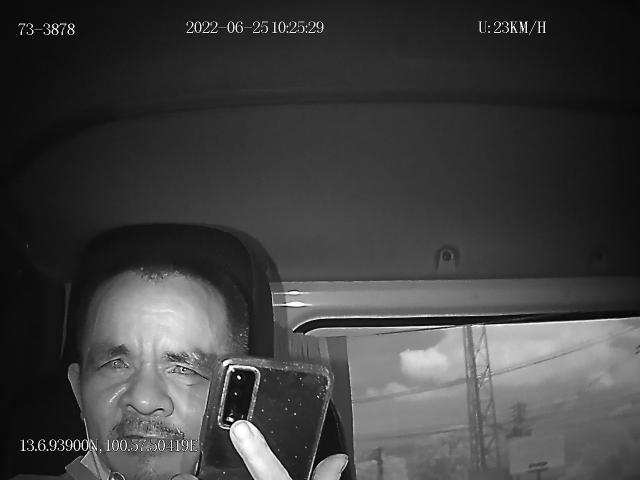PhoneUse: (198, 354, 334, 480)
SafeDriving: (91, 344, 139, 382), (158, 350, 205, 384)
